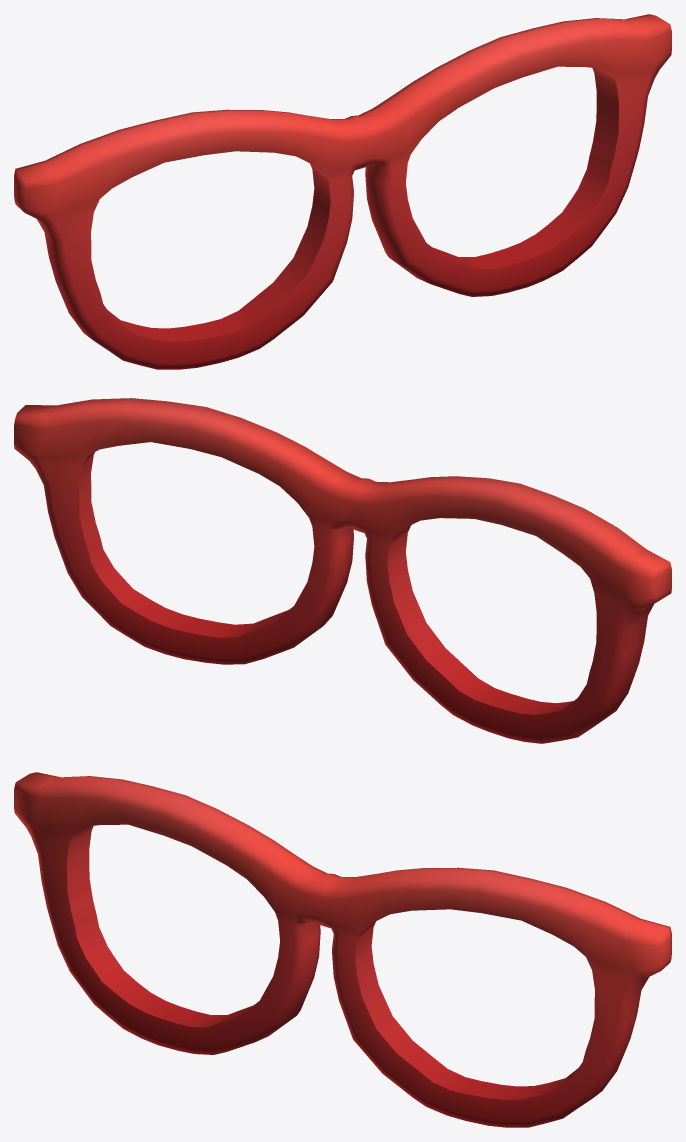
The model's file is Glasses_03.glb.
3 views of the same model, one above another, from view 1: azimuth 30°, elevation 25°; view 2: azimuth 150°, elevation 25°; view 3: azimuth 330°, elevation 25° (orthographic).
Parts seen in each view (by area): view 1: Glasses_03; view 2: Glasses_03; view 3: Glasses_03.
Boxes of the visible parts, x1,y1,x2,y2 form: Glasses_03: (14,14,671,369); Glasses_03: (14,398,671,743); Glasses_03: (14,772,671,1127).
Bounding box in the file's own units: 0.5177 × 0.1876 × 0.0534.
1 material, 1 textured.
